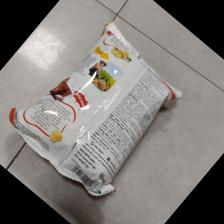Lays: (7, 22, 183, 200)
